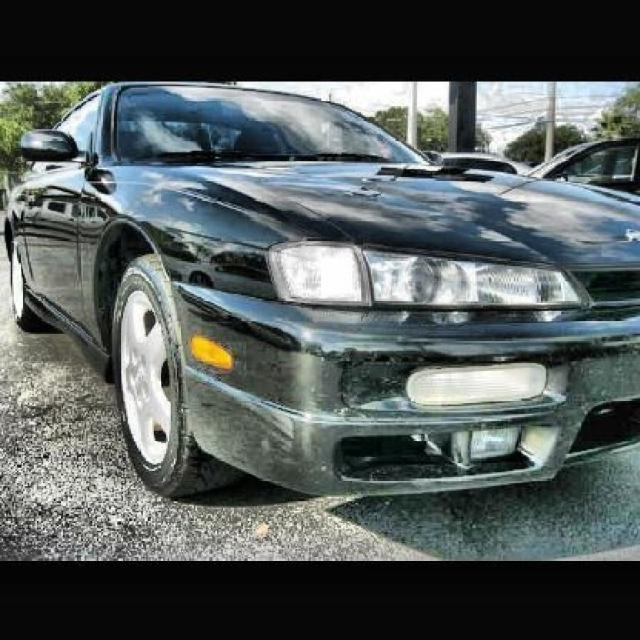black: (1, 77, 640, 494)
